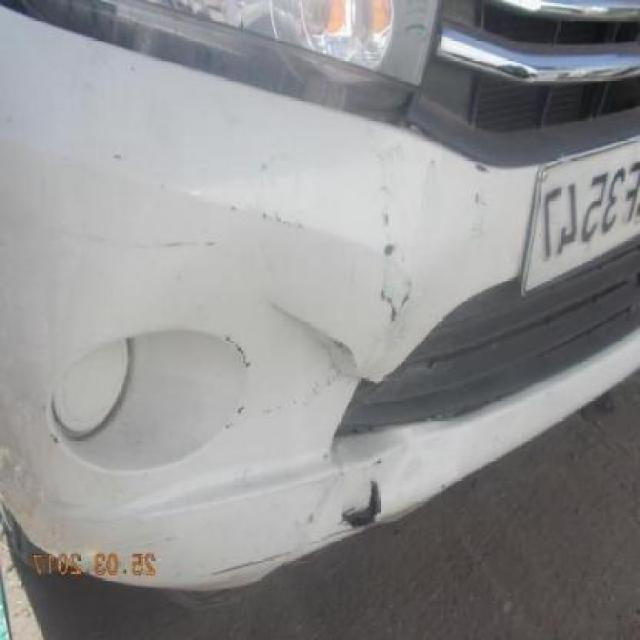damage: (373, 236, 414, 317), (334, 479, 383, 538), (467, 157, 490, 244)
